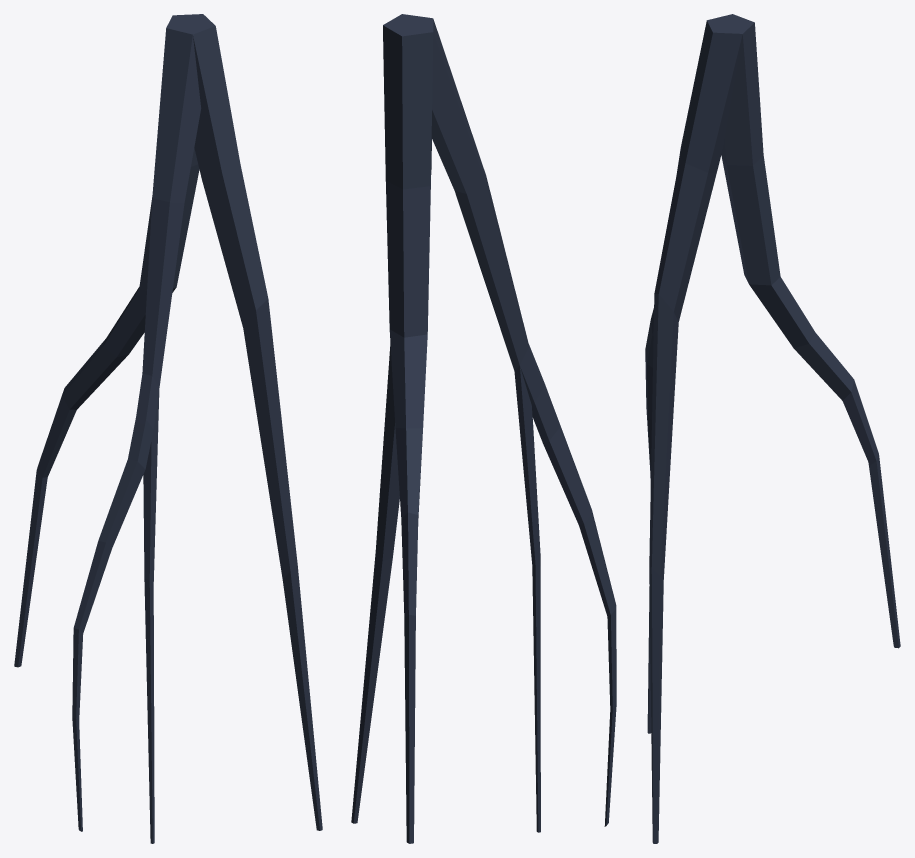
The model's file is sp_tree04.glb.
The picture shows the model from 3 angles, left to right: view 1: azimuth 30°, elevation 25°; view 2: azimuth 150°, elevation 25°; view 3: azimuth 270°, elevation 25°; orthographic projection. The views are drawn at different scales.
Parts seen in each view (by area): view 1: SP_Tree04; view 2: SP_Tree04; view 3: SP_Tree04.
Part boxes in pixels (box(x1,y1,x2,y2)): SP_Tree04: box(14, 14, 322, 843); SP_Tree04: box(351, 14, 616, 843); SP_Tree04: box(645, 14, 900, 843).
Size of the model in its own units: 94.15 by 289 by 86.26.
Materials: 1 (1 with a texture image).
